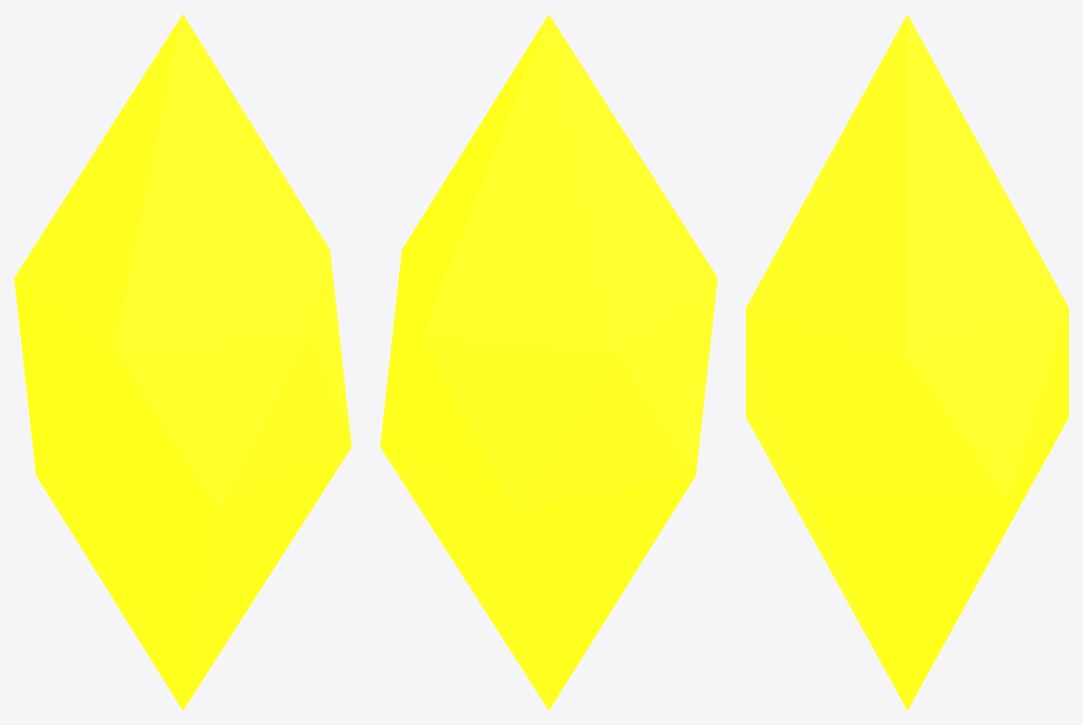
The model's file is crystal.glb.
3 views of the same model, side by side, from view 1: azimuth 30°, elevation 25°; view 2: azimuth 150°, elevation 25°; view 3: azimuth 270°, elevation 25° (orthographic).
Parts seen in each view (by area): view 1: Crystal; view 2: Crystal; view 3: Crystal.
Part boxes in pixels (x1,y1,x2,y2): Crystal: [14, 14, 351, 710]; Crystal: [380, 14, 717, 710]; Crystal: [746, 14, 1068, 710].
Size of the model in its own units: 1.79 by 4.05 by 1.7.
